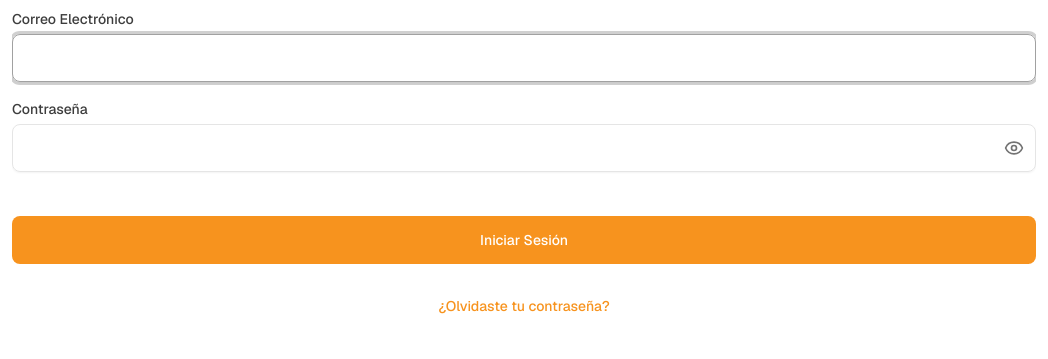
Scenario: LoginForm › Form Validation › shows error for invalid email format
The image size is (1048, 359).
Type "invalid-email" into the field labelled "Correo Electrónico".
click(524, 58); type("invalid-email")  # box x1=12 y1=34 x2=1036 y2=82
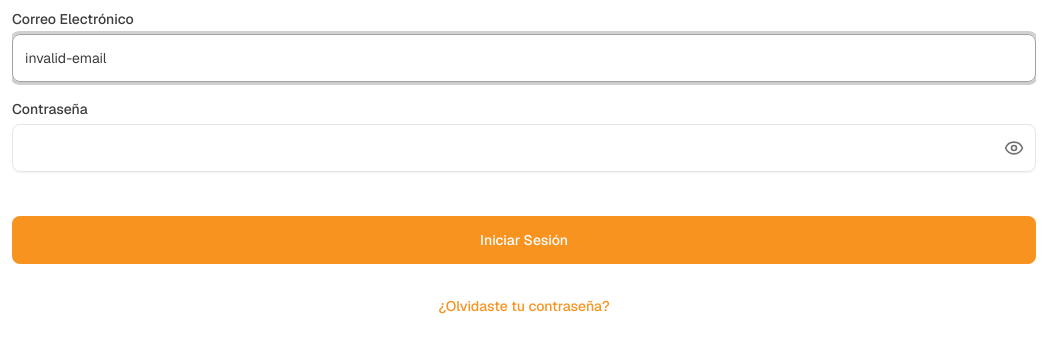
Type "password123" into the password field labelled "Contraseña".
click(524, 148); type("password123")  # box x1=12 y1=124 x2=1036 y2=172
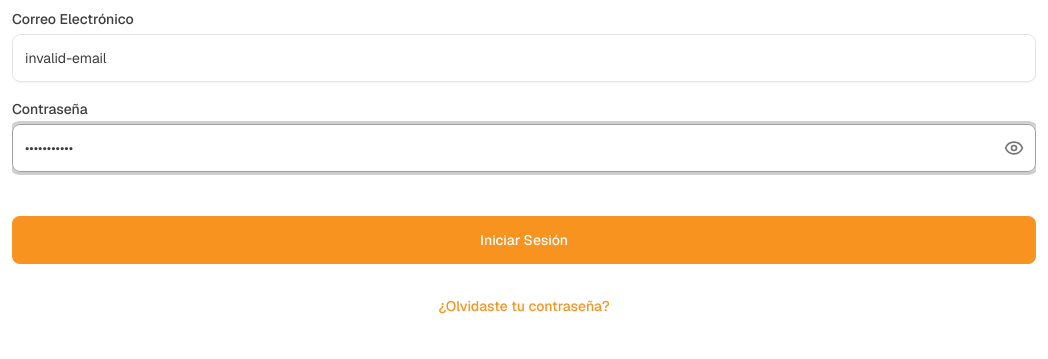
Click the button "Iniciar Sesión".
click(524, 240)  # box x1=12 y1=216 x2=1036 y2=264
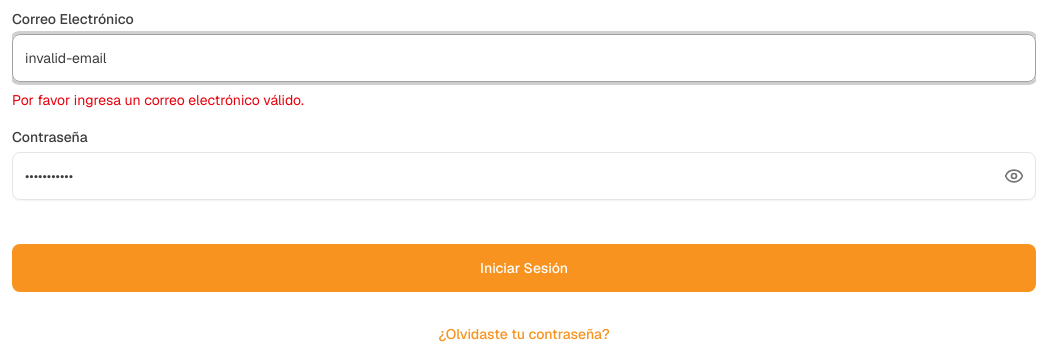
Check: the text "Por favor ingresa un correo electrónico válido." is shown, box x1=12 y1=91 x2=304 y2=109
